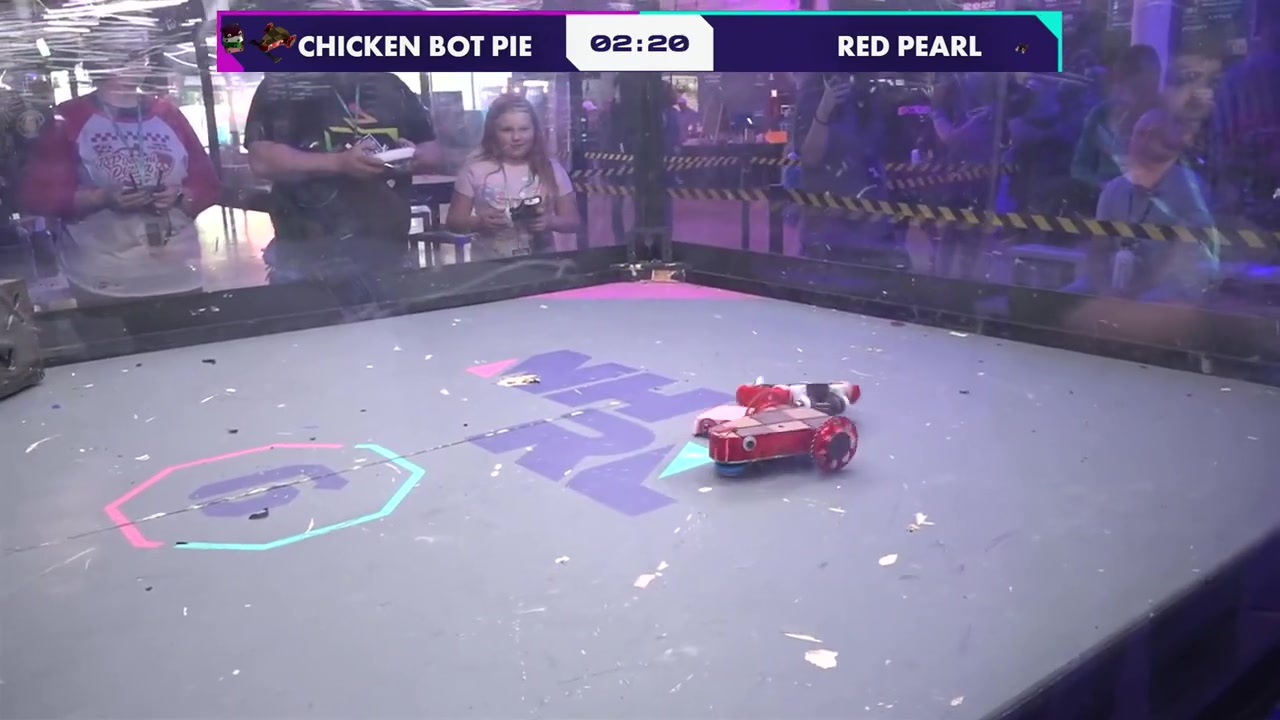combatbot: (708, 403, 861, 480), (735, 380, 862, 416)
housebot: (0, 277, 45, 398)
minibot: (693, 403, 755, 438)
